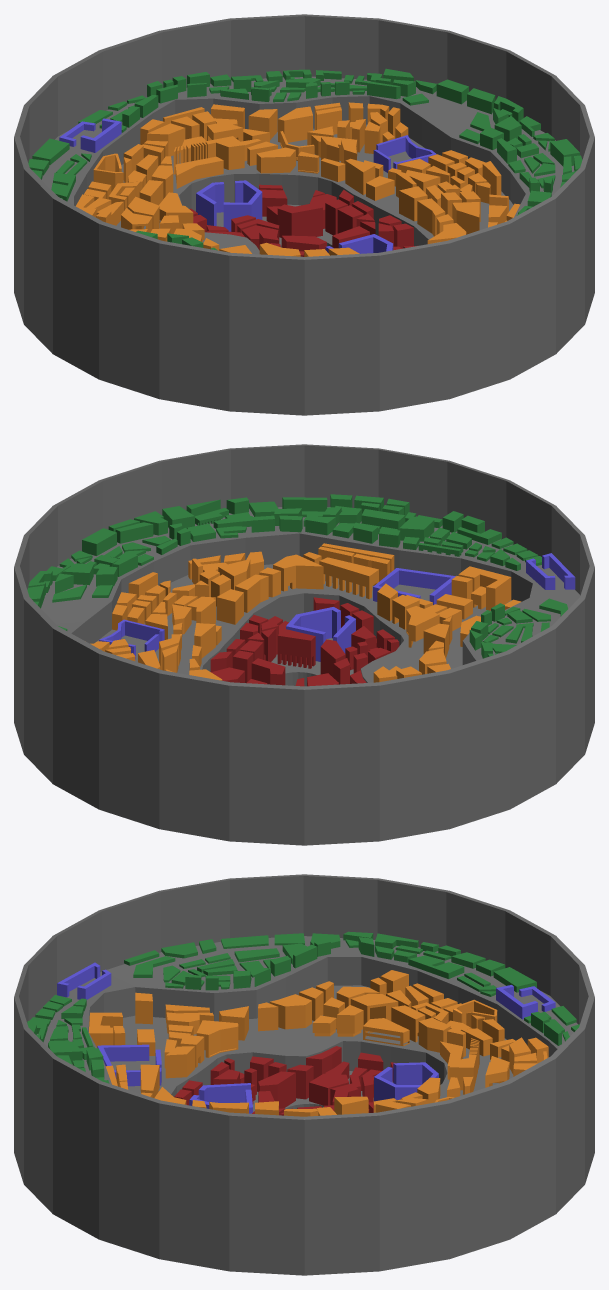
The model's file is P_JPO_Bowl_V3.fbx.
3 renders of one model, top to bottom at view 1: azimuth 30°, elevation 25°; view 2: azimuth 150°, elevation 25°; view 3: azimuth 270°, elevation 25°, orthographic.
Parts seen in each view (by area): view 1: M_New_Bowl, M_Buildings_Second_Floor.088, M_Buildings_First_Floor.099, M_Buildings_Third_Floor.025, M_Hearts; view 2: M_New_Bowl, M_Buildings_Second_Floor.088, M_Buildings_First_Floor.099, M_Buildings_Third_Floor.025, M_Hearts; view 3: M_New_Bowl, M_Buildings_Second_Floor.088, M_Buildings_First_Floor.099, M_Buildings_Third_Floor.025, M_Hearts.
Boxes of the visible parts, x1,y1,x2,y2 form: M_New_Bowl: (14, 14, 594, 415); M_Buildings_Second_Floor.088: (76, 102, 520, 256); M_Buildings_First_Floor.099: (28, 68, 582, 250); M_Buildings_Third_Floor.025: (189, 184, 417, 256); M_Hearts: (59, 118, 436, 253); M_New_Bowl: (14, 444, 594, 845); M_Buildings_Second_Floor.088: (90, 543, 521, 682); M_Buildings_First_Floor.099: (27, 494, 567, 658); M_Buildings_Third_Floor.025: (210, 597, 399, 686); M_Hearts: (99, 553, 575, 661); M_New_Bowl: (14, 874, 594, 1275); M_Buildings_Second_Floor.088: (89, 970, 548, 1116); M_Buildings_First_Floor.099: (27, 931, 579, 1083); M_Buildings_Third_Floor.025: (174, 1046, 400, 1115); M_Hearts: (57, 962, 555, 1113).
Bounding box in the file's own units: 63000 × 18736 × 63000.
